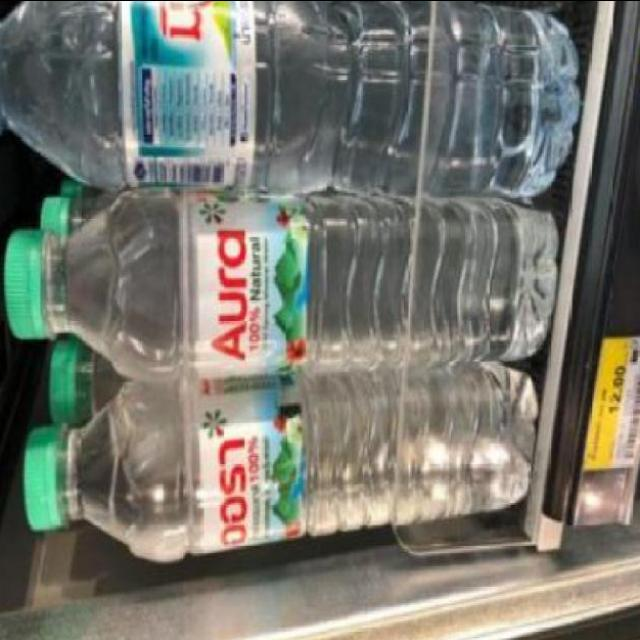plastik: (0, 0, 580, 196), (4, 191, 558, 379), (24, 363, 537, 560)
